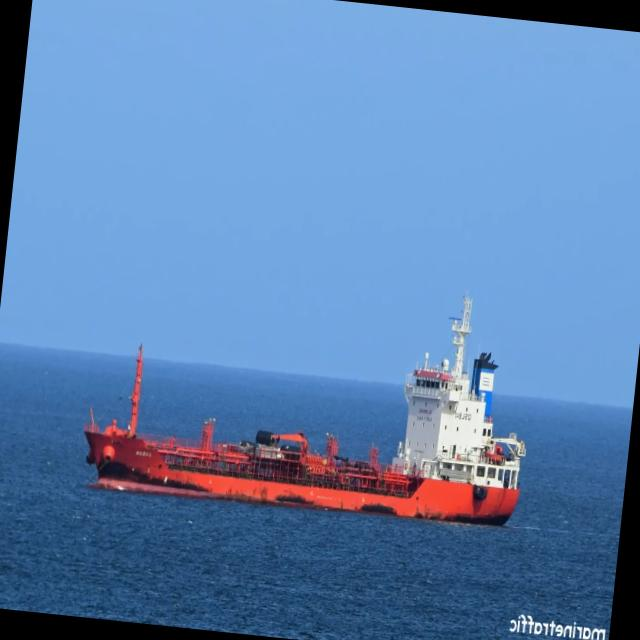Tanker: (84, 296, 526, 524)
